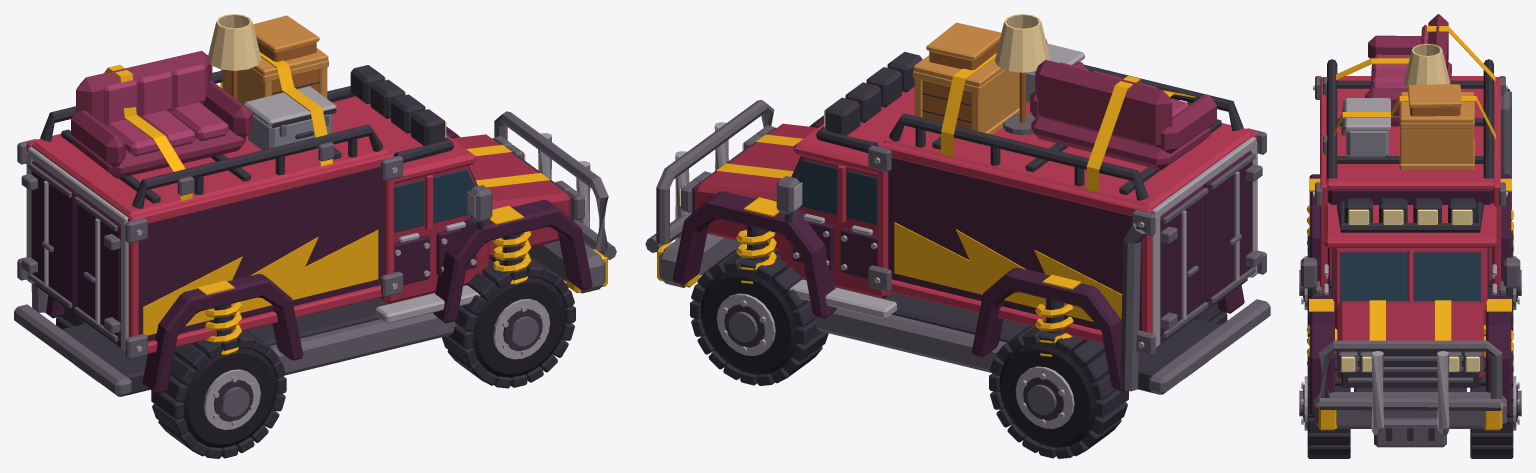
Rendered from thief_truck_01_LOD0.fbx.
3 views of the same model, side by side, from view 1: azimuth 30°, elevation 25°; view 2: azimuth 150°, elevation 25°; view 3: azimuth 270°, elevation 25° (orthographic). The views are drawn at different scales.
Parts seen in each view (by area): view 1: CargoBody_LOD0_Mesh, Cabin_LOD0_Mesh, StolenCouch_LOD0_Mesh, WheelArchArmour_LOD0_Mesh, Wheel_Rear_Right_LOD0_Mesh, Wheel_Front_Right_LOD0_Mesh, Chassis_LOD0_Mesh, RearCargoDoor_Right_LOD0_Mesh, RearCargoDoor_Left_LOD0_Mesh, RoofRack_LOD0_Mesh, GreyStorageContainer_LOD0_Mesh, YellowCargoStraps_LOD0_Mesh (+3 smaller); view 2: CargoBody_LOD0_Mesh, Cabin_LOD0_Mesh, Wheel_Rear_Left_LOD0_Mesh, Wheel_Front_Left_LOD0_Mesh, WheelArchArmour_LOD0_Mesh, StolenCouch_LOD0_Mesh, Chassis_LOD0_Mesh, RearCargoDoor_Left_LOD0_Mesh, RearCargoDoor_Right_LOD0_Mesh, RoofRack_LOD0_Mesh, WoodenStorageCrate_LOD0_Mesh, CreamFloorLamp_LOD0_Mesh (+4 smaller); view 3: Cabin_LOD0_Mesh, CargoBody_LOD0_Mesh, WheelArchArmour_LOD0_Mesh, WoodenStorageCrate_LOD0_Mesh, RoofRack_LOD0_Mesh, StolenCouch_LOD0_Mesh, GreyStorageContainer_LOD0_Mesh, Wheel_Front_Left_LOD0_Mesh, Wheel_Front_Right_LOD0_Mesh, YellowCargoStraps_LOD0_Mesh, SmallWoodenBox_LOD0_Mesh, CreamFloorLamp_LOD0_Mesh (+4 smaller).
Boxes of the visible parts, x1,y1,x2,y2 form: CargoBody_LOD0_Mesh: [14, 113, 403, 396]; Cabin_LOD0_Mesh: [327, 65, 616, 323]; StolenCouch_LOD0_Mesh: [71, 51, 252, 178]; WheelArchArmour_LOD0_Mesh: [45, 126, 592, 393]; Wheel_Rear_Right_LOD0_Mesh: [151, 330, 286, 458]; Wheel_Front_Right_LOD0_Mesh: [442, 255, 575, 388]; Chassis_LOD0_Mesh: [62, 231, 531, 396]; RearCargoDoor_Right_LOD0_Mesh: [21, 160, 78, 308]; RearCargoDoor_Left_LOD0_Mesh: [74, 194, 120, 341]; RoofRack_LOD0_Mesh: [40, 70, 383, 208]; GreyStorageContainer_LOD0_Mesh: [244, 86, 336, 150]; YellowCargoStraps_LOD0_Mesh: [104, 52, 334, 201]; CargoBody_LOD0_Mesh: [868, 103, 1270, 394]; Cabin_LOD0_Mesh: [645, 52, 922, 319]; Wheel_Rear_Left_LOD0_Mesh: [989, 325, 1128, 458]; Wheel_Front_Left_LOD0_Mesh: [690, 249, 828, 385]; WheelArchArmour_LOD0_Mesh: [673, 115, 1244, 391]; StolenCouch_LOD0_Mesh: [1030, 59, 1216, 170]; Chassis_LOD0_Mesh: [736, 225, 1220, 394]; RearCargoDoor_Left_LOD0_Mesh: [1203, 150, 1262, 303]; RearCargoDoor_Right_LOD0_Mesh: [1160, 185, 1208, 337]; RoofRack_LOD0_Mesh: [889, 64, 1243, 200]; WoodenStorageCrate_LOD0_Mesh: [913, 55, 1019, 144]; CreamFloorLamp_LOD0_Mesh: [995, 14, 1050, 135]; Cabin_LOD0_Mesh: [1300, 198, 1520, 447]; CargoBody_LOD0_Mesh: [1313, 76, 1507, 294]; WheelArchArmour_LOD0_Mesh: [1309, 174, 1511, 415]; WoodenStorageCrate_LOD0_Mesh: [1399, 92, 1474, 170]; RoofRack_LOD0_Mesh: [1327, 59, 1493, 178]; StolenCouch_LOD0_Mesh: [1365, 14, 1451, 125]; GreyStorageContainer_LOD0_Mesh: [1341, 98, 1390, 157]; Wheel_Front_Left_LOD0_Mesh: [1470, 350, 1521, 458]; Wheel_Front_Right_LOD0_Mesh: [1299, 352, 1350, 458]; YellowCargoStraps_LOD0_Mesh: [1323, 26, 1496, 157]; SmallWoodenBox_LOD0_Mesh: [1407, 84, 1461, 116]; CreamFloorLamp_LOD0_Mesh: [1404, 43, 1450, 87].
Bounding box in the file's own units: 8.39 × 5.82 × 3.74.
